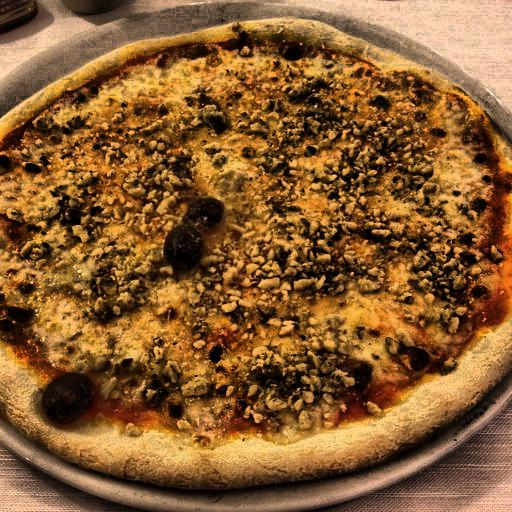pizza: (8, 44, 507, 486)
